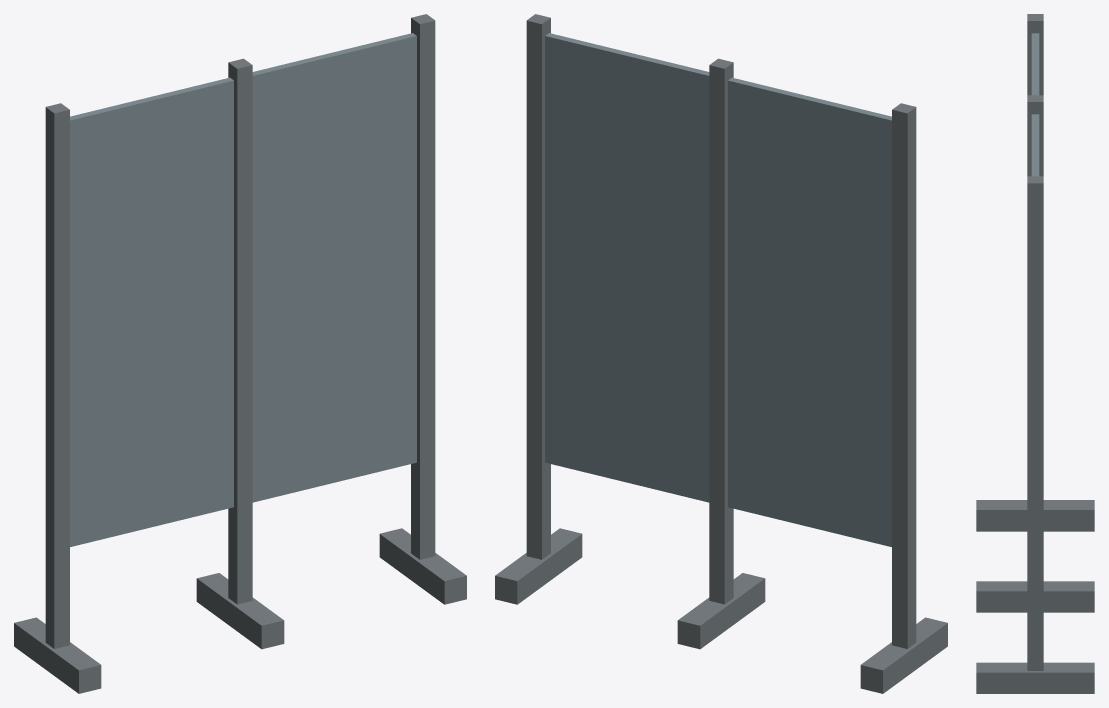
The model's file is privacy_screen.glb.
3 renders of one model, left to right at view 1: azimuth 30°, elevation 25°; view 2: azimuth 150°, elevation 25°; view 3: azimuth 270°, elevation 25°, orthographic. The views are drawn at different scales.
Parts seen in each view (by area): view 1: body; view 2: body; view 3: body.
Boxes of the visible parts, left/top/right/bottom form: body: left=14, top=14, right=466, bottom=693; body: left=495, top=14, right=947, bottom=693; body: left=976, top=14, right=1094, bottom=693.
Bounding box in the file's own units: 1.38 × 1.9 × 0.4.
